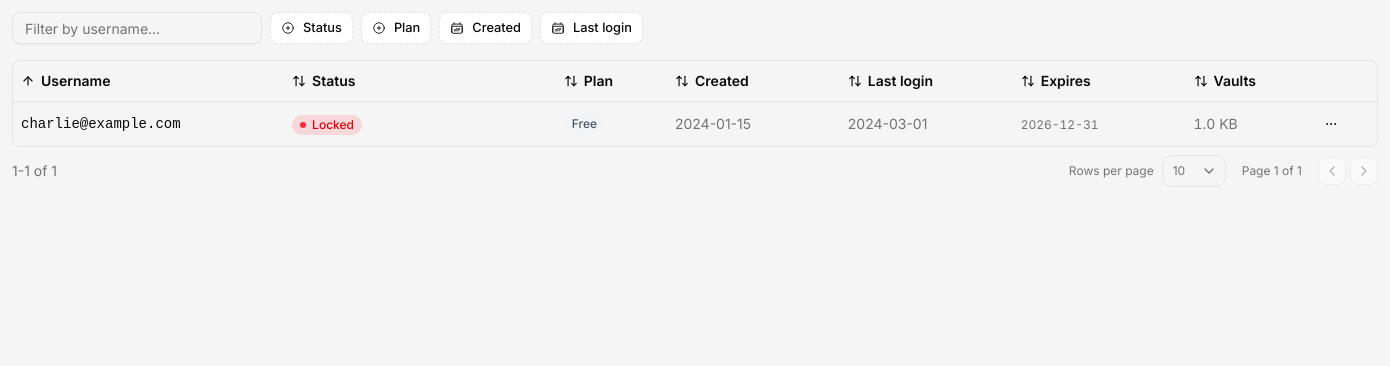
Scenario: UserList › shows Unlock option only for locked users
The image size is (1390, 366).
Click the button named "Actions for charlie@example.com".
click(1331, 124)  # box [1317,110,1345,138]
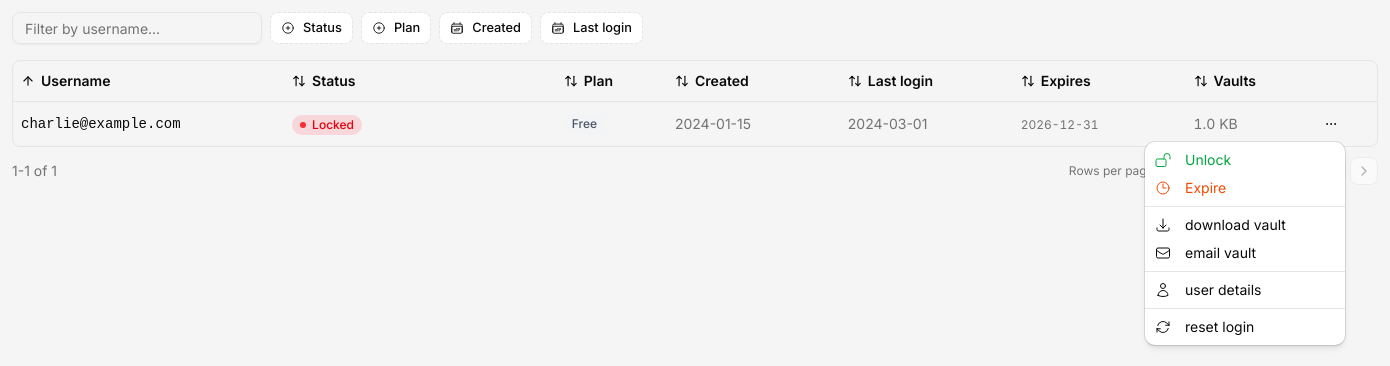
Expected: the menu item "Unlock" is shown, [1155,151,1231,168]
